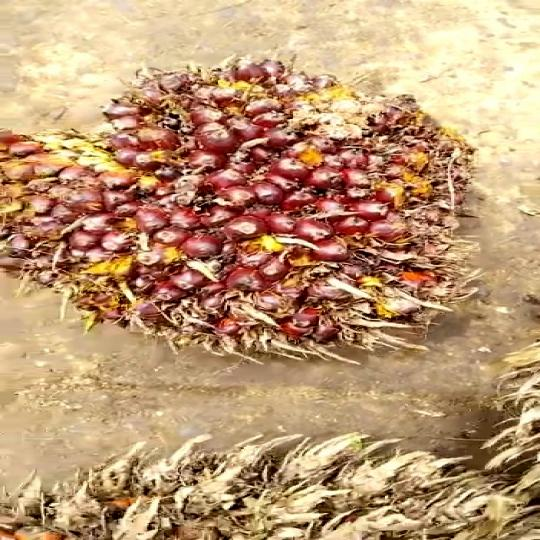masak: (0, 55, 472, 362)
